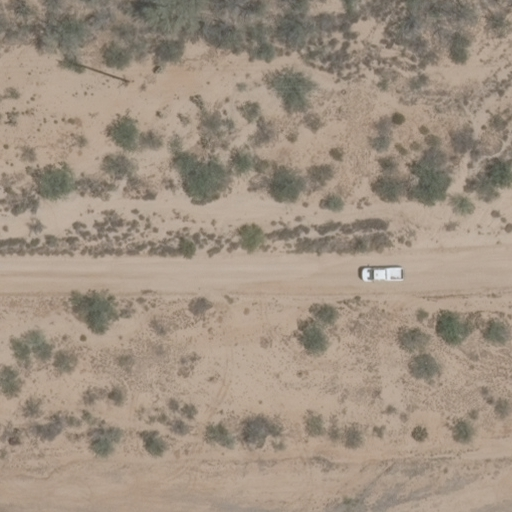DT: (67, 61, 131, 86)
